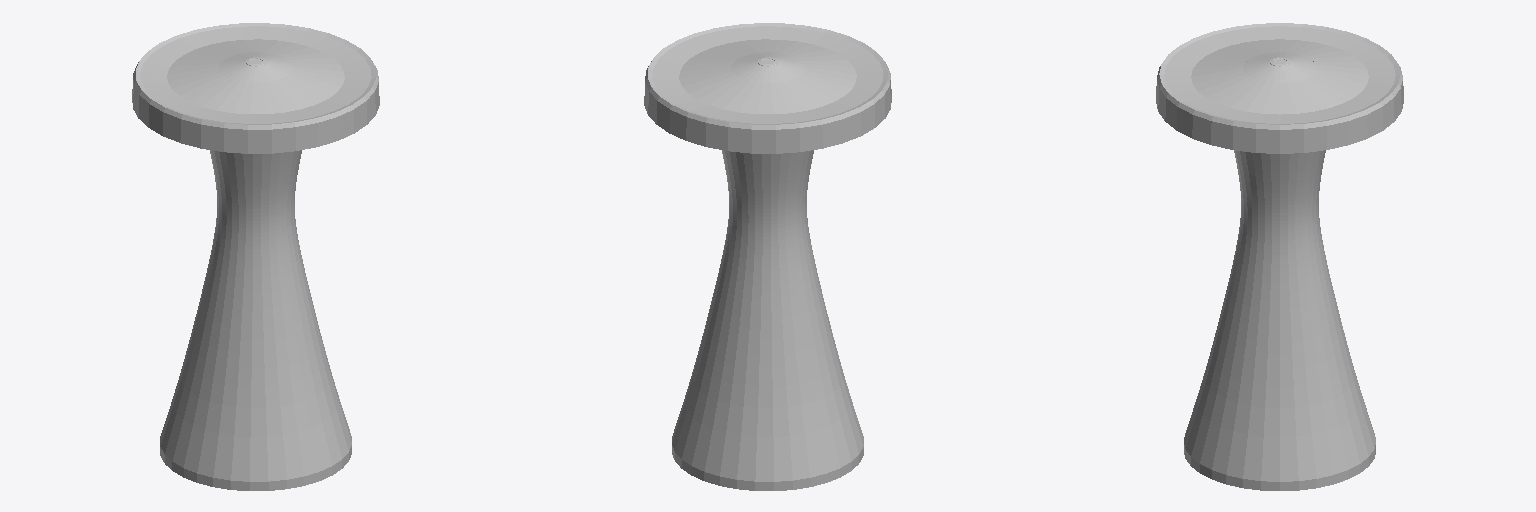
The model's file is UFOBuild3.obj.
The picture shows the model from 3 angles: view 1: azimuth 30°, elevation 25°; view 2: azimuth 150°, elevation 25°; view 3: azimuth 270°, elevation 25°; orthographic projection.
Parts seen in each view (by area): view 1: UFOBuilding; view 2: UFOBuilding; view 3: UFOBuilding.
Part boxes in pixels (bbox=[...]): UFOBuilding: bbox=[132, 23, 379, 490]; UFOBuilding: bbox=[644, 23, 891, 490]; UFOBuilding: bbox=[1156, 23, 1403, 490].
Size of the model in its own units: 116 by 201 by 116.